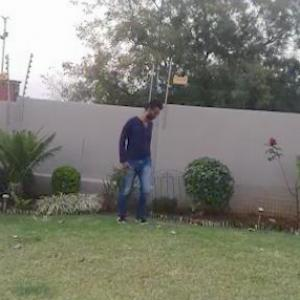follow: (114, 96, 157, 226)
